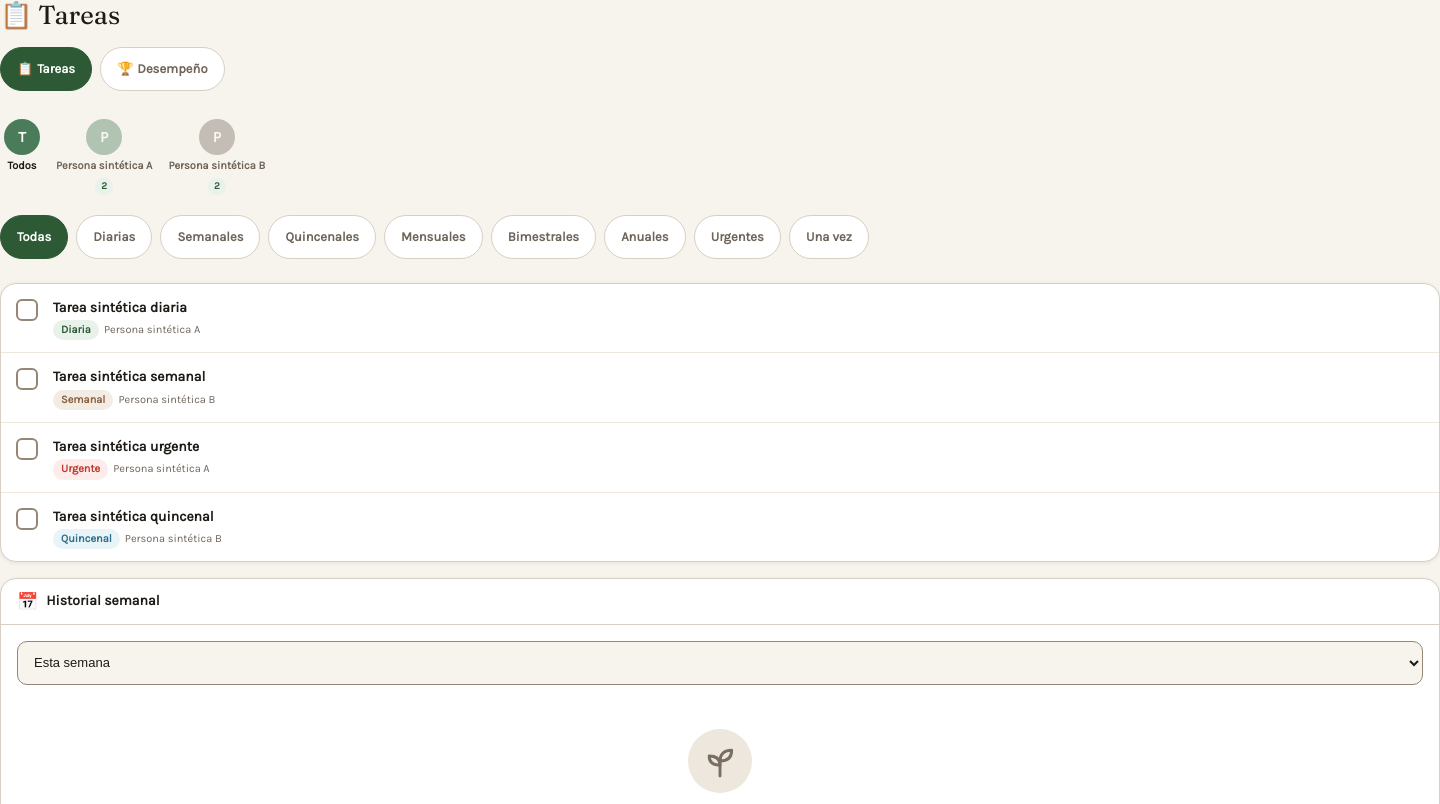
TasksScreen — filtros › «Quincenales» va entre Semanales y Mensuales y filtra las quincenales
The width and height of the screenshot is (1440, 804).
Expected: the list named "Tareas del período" is shown, [1,284,1439,562]
Click the button "Quincenales" at (322, 237), box [268,215,376,259]
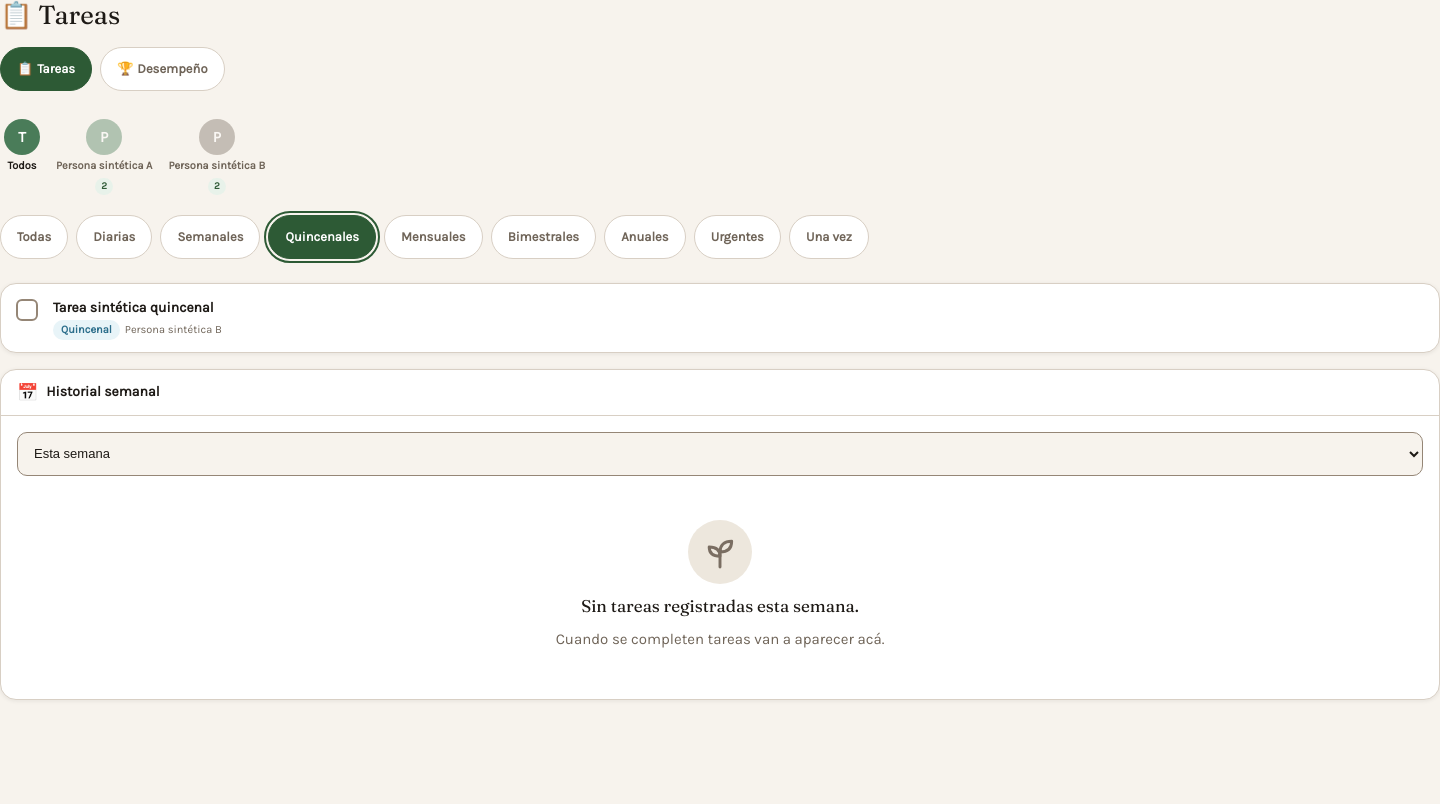
Expected: the text "Tarea sintética quincenal" is shown, [53,299,214,316]
Expected: the number of list items is 1, [5,288,222,344]
